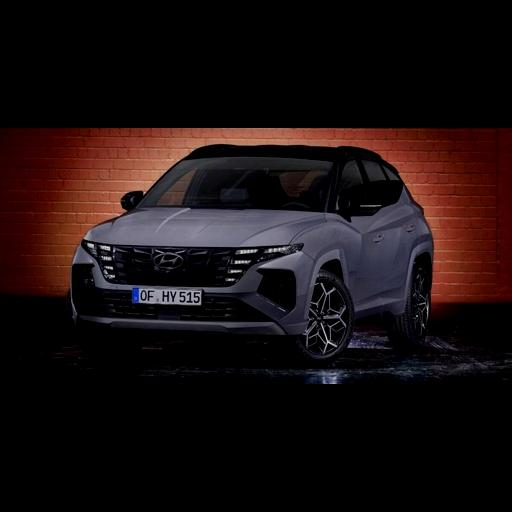suv: (66, 144, 432, 364)
